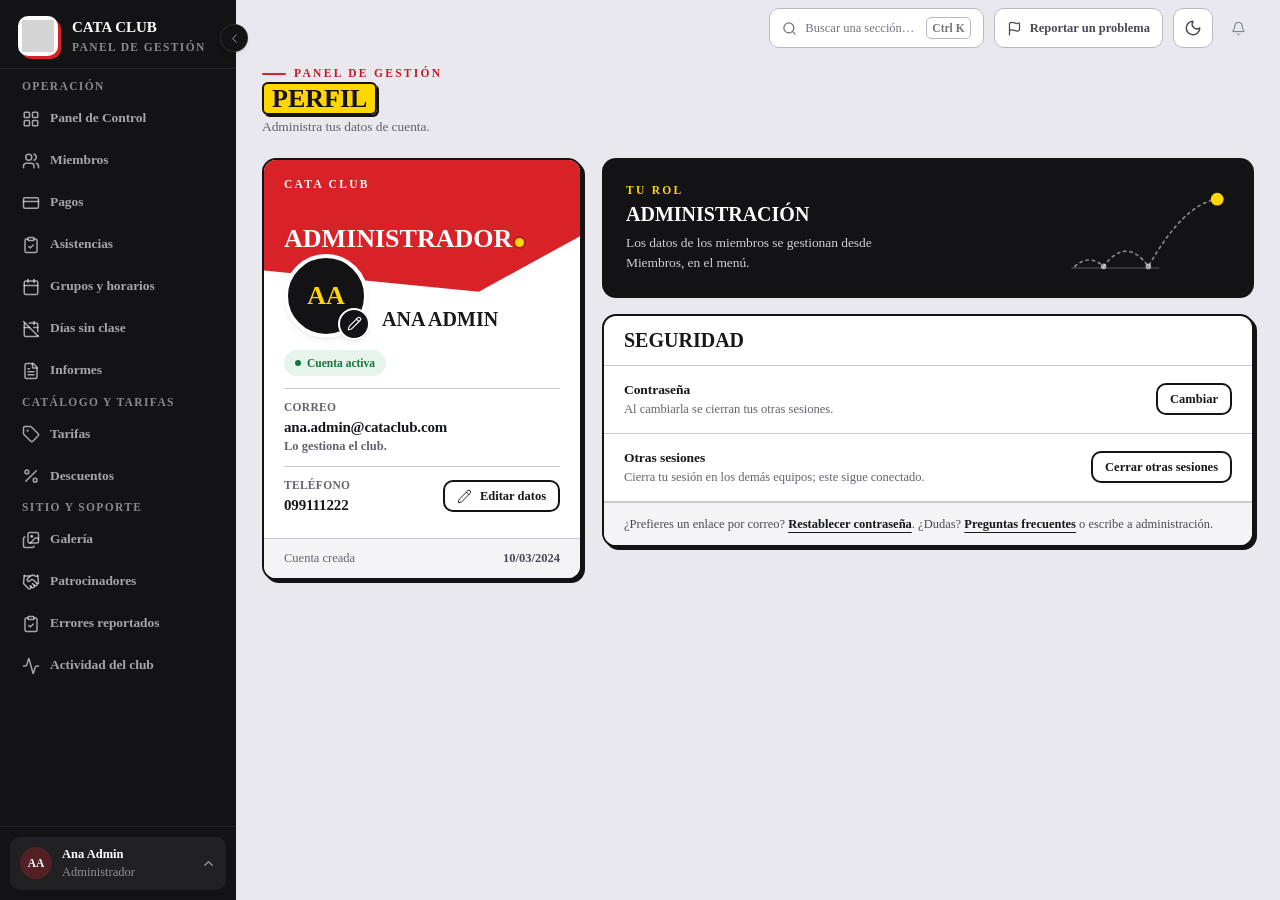
ProfilePage — teléfono shared PhoneField (#667, #1296) › cleans letters and typing separators to digits on every change, not only a pasted chunk
Click the button "Editar datos" at (501, 496), box left=443, top=480, right=560, bottom=512
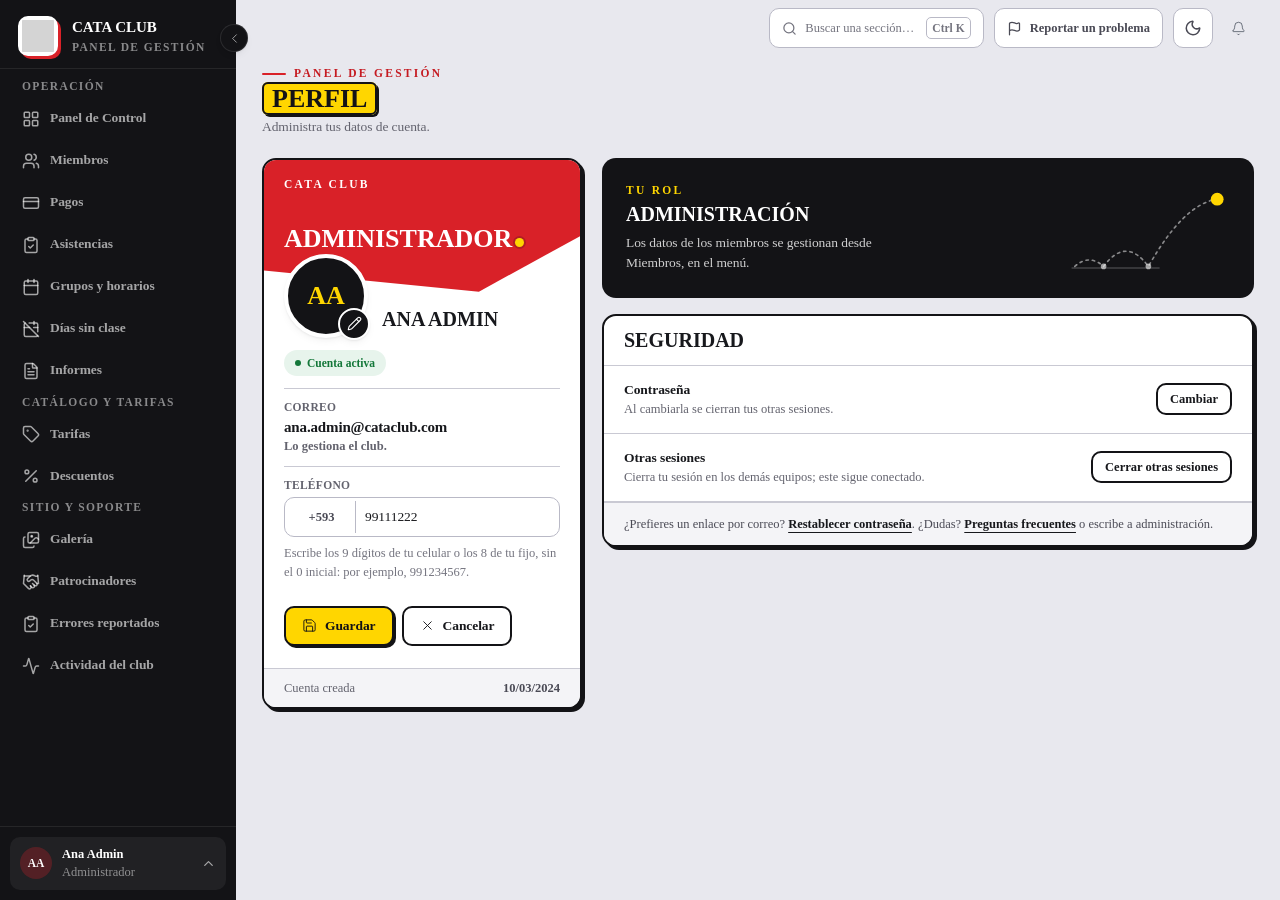
Replace the text in the field named "teléfono" with "099abc-123-4567" at (422, 517), box left=284, top=497, right=560, bottom=537
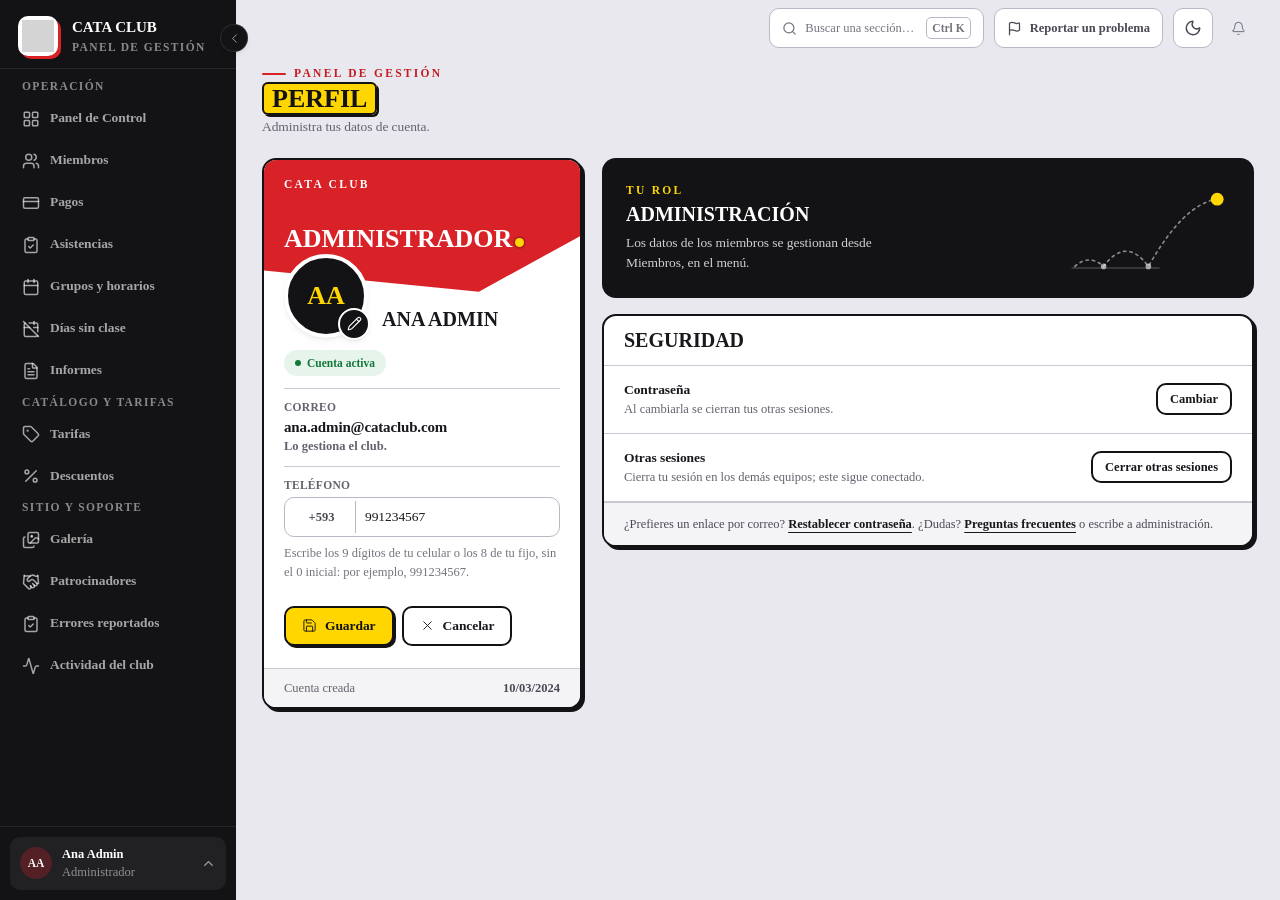
Now the field named "teléfono" holds "991234567", box left=284, top=497, right=560, bottom=537
